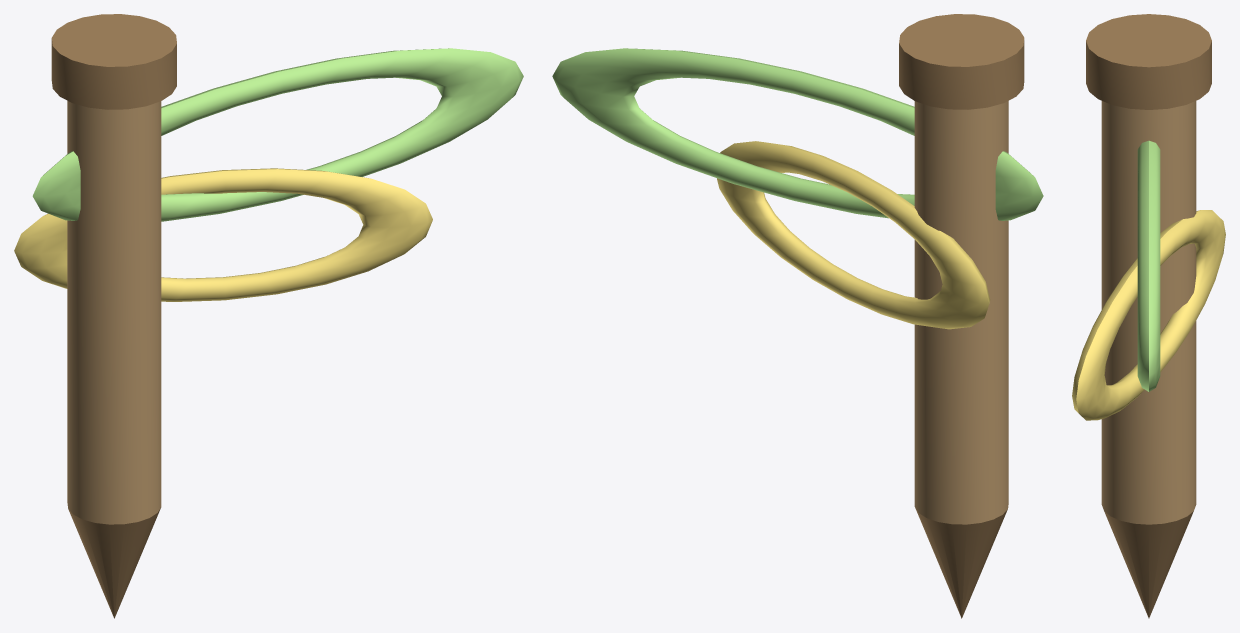
File: day_thun.glb
The picture shows the model from 3 angles, left to right: view 1: azimuth 30°, elevation 25°; view 2: azimuth 150°, elevation 25°; view 3: azimuth 270°, elevation 25°; orthographic projection.
Visible parts, largest first — view 1: Cyl1, Tor1, Tor2, Cyl3, Cyl2; view 2: Cyl1, Tor1, Tor2, Cyl3, Cyl2; view 3: Cyl1, Cyl3, Tor2, Tor1, Cyl2.
Part boxes in pixels (x1,y1,x2,y2): Cyl1: (67, 101, 161, 524); Tor1: (32, 48, 523, 221); Tor2: (14, 168, 432, 301); Cyl3: (51, 14, 176, 109); Cyl2: (68, 508, 160, 618); Cyl1: (914, 101, 1008, 524); Tor1: (552, 48, 1043, 220); Tor2: (717, 141, 990, 329); Cyl3: (899, 14, 1024, 109); Cyl2: (915, 508, 1007, 618); Cyl1: (1101, 101, 1196, 524); Cyl3: (1086, 14, 1211, 109); Tor2: (1072, 210, 1225, 420); Tor1: (1137, 140, 1160, 391); Cyl2: (1104, 511, 1193, 618).
Size of the model in its own units: 0.36 by 0.405 by 0.0977.
